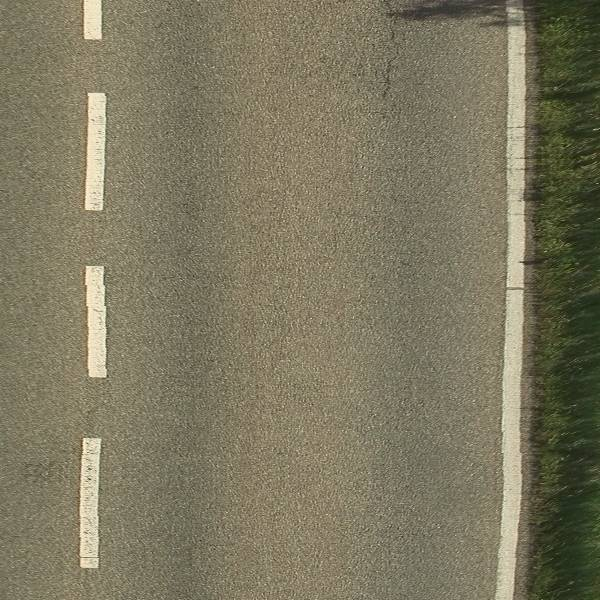road_damage: (374, 20, 403, 107)
